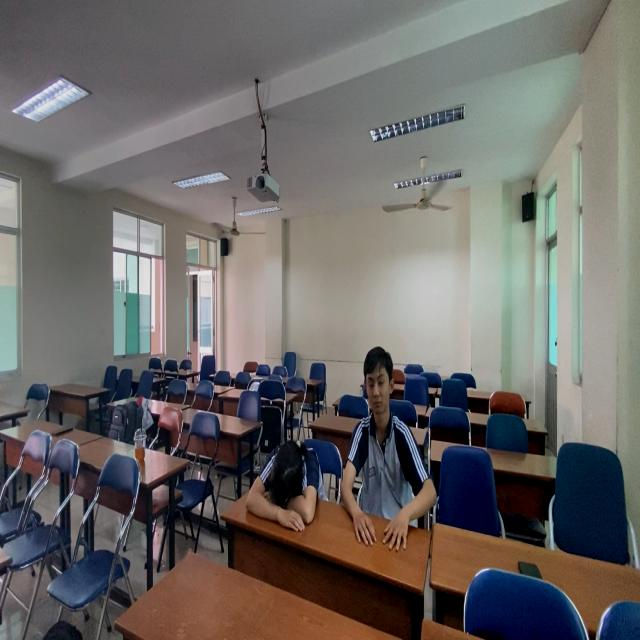sleep: (243, 426, 325, 522)
